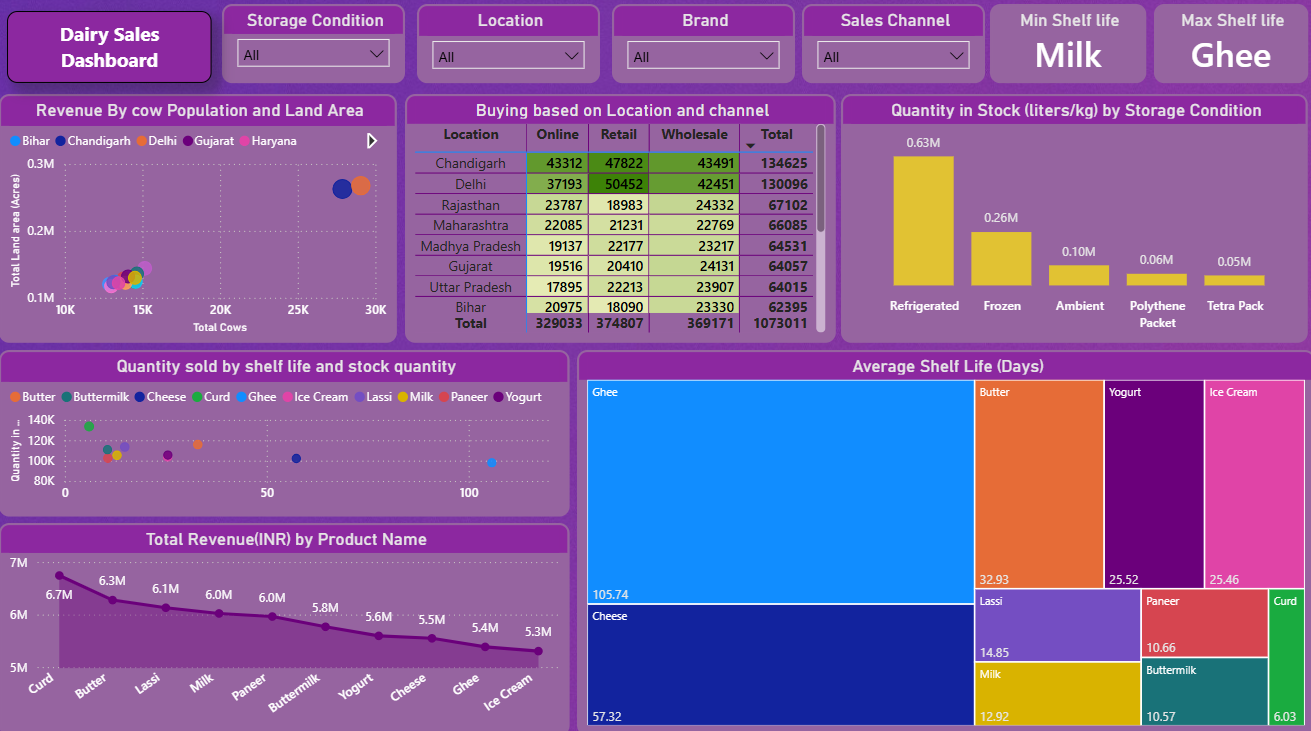

What the dashboard file says about the page in this screenshot:
{"tool":"powerbi","page":{"name":"Page 1","canvas":[1280,720],"ordinal":0},"visuals":[{"type":"card","title":"Min Shelf life","fields":{"Values":["All Measures.Min SL product"]},"box":[963.9,7.8,151.7,76.8],"z":0},{"type":"card","title":"Max Shelf life","fields":{"Values":["All Measures.Max SL product"]},"box":[1123.4,7.8,149.8,76.8],"z":1000},{"type":"treemap","title":"Average Shelf Life (Days)","fields":{"Group":["dairy_dataset.Product Name"],"Values":["Avg(dairy_dataset.Shelf Life (days))"]},"box":[562.2,344.3,717.8,375.4],"z":2000},{"type":"pivotTable","title":"Buying based on Location and channel","fields":{"Rows":["dairy_dataset.Location"],"Values":["All Measures.Total Qty sold"],"Columns":["dairy_dataset.Sales Channel"]},"box":[394.9,95.3,419.2,242.2],"z":3000},{"type":"columnChart","title":"Quantity in Stock (liters/kg) by Storage Condition","fields":{"Category":["dairy_dataset.Storage Condition"],"Y":["Sum(dairy_dataset.Quantity in Stock (liters/kg))"]},"box":[819,95.3,454.2,242.2],"z":4000},{"type":"scatterChart","title":"Quantity sold by shelf life and stock quantity","fields":{"X":["Avg(dairy_dataset.Shelf Life (days))"],"Y":["Sum(dairy_dataset.Quantity in Stock (liters/kg))"],"Series":["dairy_dataset.Product Name"],"Size":["All Measures.Total Qty sold"]},"box":[0,344.3,555.4,162.4],"z":5000},{"type":"scatterChart","title":"Revenue By cow Population and Land Area","fields":{"X":["Sum(dairy_dataset.Number of Cows)"],"Y":["Sum(dairy_dataset.Total Land Area (acres))"],"Size":["Sum(dairy_dataset.Approx. Total Revenue(INR))"],"Series":["dairy_dataset.Location"]},"box":[0,95.3,387.1,242.2],"z":6000},{"type":"areaChart","title":" Total Revenue(INR) by Product Name","fields":{"Category":["dairy_dataset.Product Name"],"Y":["Sum(dairy_dataset.Approx. Total Revenue(INR))"]},"box":[0,512.6,555.4,207.2],"z":7000},{"type":"slicer","title":"Brand","fields":{"Values":["dairy_dataset.Brand"]},"box":[596.2,7.8,178,76.8],"z":8000},{"type":"slicer","title":"Location","fields":{"Values":["dairy_dataset.Location"]},"box":[406.6,7.8,178,76.8],"z":9000},{"type":"slicer","title":"Sales Channel","fields":{"Values":["dairy_dataset.Sales Channel"]},"box":[781,7.8,178,76.8],"z":10000},{"type":"slicer","title":"Storage Condition","fields":{"Values":["dairy_dataset.Storage Condition"]},"box":[216.9,7.8,178,76.8],"z":11000},{"type":"textbox","box":[7.8,14.6,199.4,70],"z":12000}]}

Visuals, with their boxes in screenshot pixels (x1, y1, x2, y2), scaled from the page's 1280x720 canvas onto the 1311x731 screenshot:
"Min Shelf life" card: box=[987, 8, 1143, 86]
"Max Shelf life" card: box=[1151, 8, 1304, 86]
"Average Shelf Life (Days)" treemap: box=[576, 350, 1310, 730]
"Buying based on Location and channel" pivotTable: box=[404, 97, 834, 343]
"Quantity in Stock (liters/kg) by Storage Condition" columnChart: box=[839, 97, 1304, 343]
"Quantity sold by shelf life and stock quantity" scatterChart: box=[0, 350, 569, 514]
"Revenue By cow Population and Land Area" scatterChart: box=[0, 97, 396, 343]
" Total Revenue(INR) by Product Name" areaChart: box=[0, 520, 569, 730]
"Brand" slicer: box=[611, 8, 793, 86]
"Location" slicer: box=[416, 8, 599, 86]
"Sales Channel" slicer: box=[800, 8, 982, 86]
"Storage Condition" slicer: box=[222, 8, 404, 86]
textbox: box=[8, 15, 212, 86]
